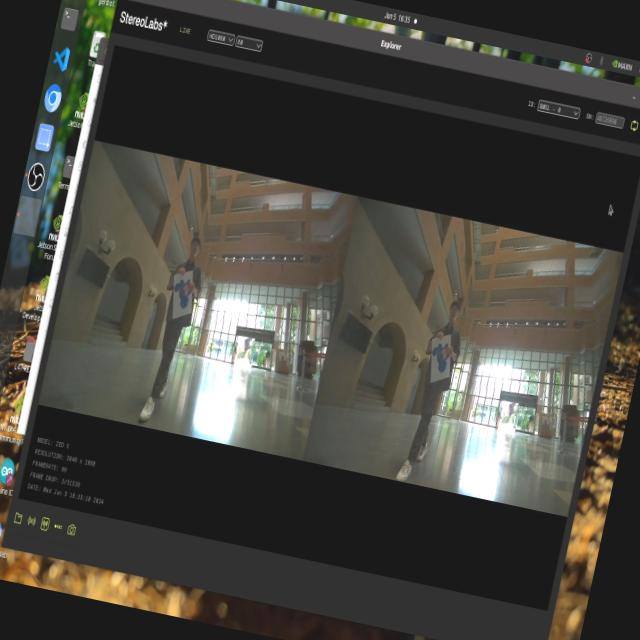blue: (163, 274, 196, 316), (423, 338, 452, 378)
